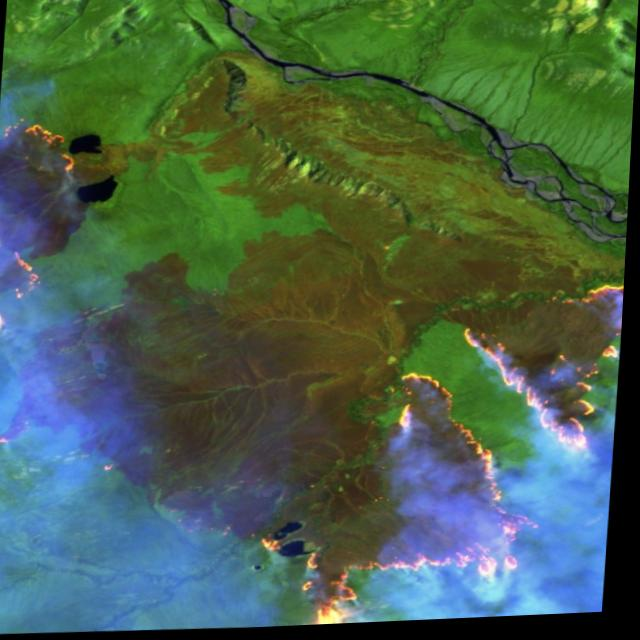fire: (256, 274, 628, 630), (0, 112, 85, 343)
